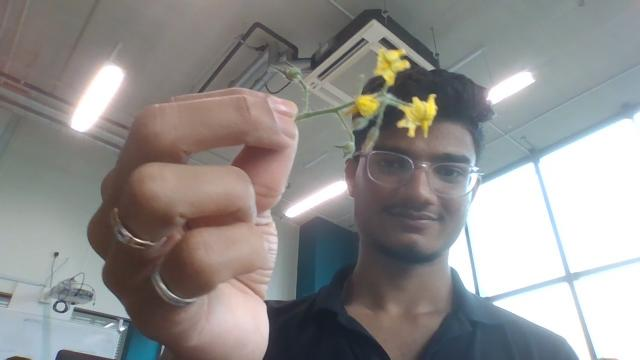Anthesis: (395, 92, 440, 140), (373, 46, 410, 83)
